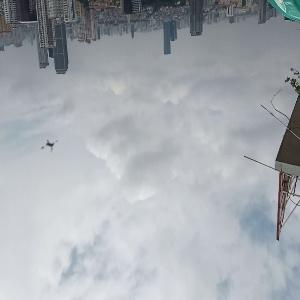drone: (33, 128, 70, 165)
